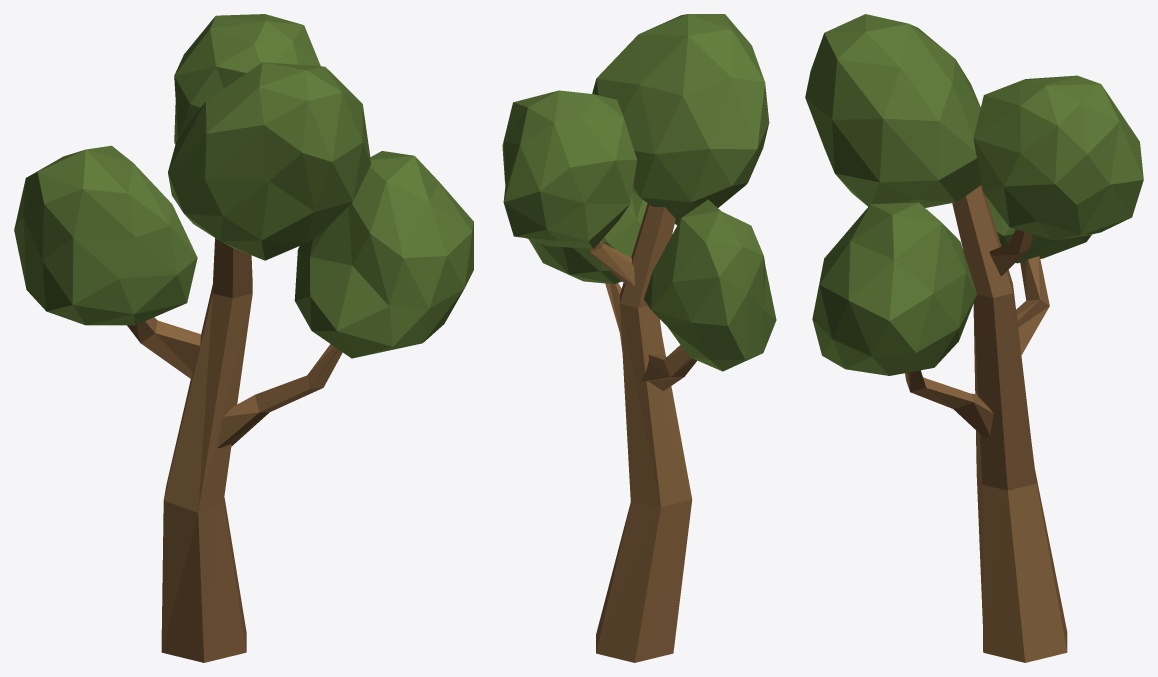
Rendered from Tree_4_2.FBX.
The picture shows the model from 3 angles, left to right: view 1: azimuth 30°, elevation 25°; view 2: azimuth 150°, elevation 25°; view 3: azimuth 270°, elevation 25°; orthographic projection. The views are drawn at different scales.
Visible parts, largest first — view 1: Tree_4_2; view 2: Tree_4_2; view 3: Tree_4_2.
Boxes of the visible parts, x1=… form: Tree_4_2: x1=14, y1=14, x2=473, y2=662; Tree_4_2: x1=502, y1=14, x2=776, y2=662; Tree_4_2: x1=805, y1=14, x2=1143, y2=662.
Size of the model in its own units: 88.11 by 149 by 73.58.
1 material, 1 textured.
